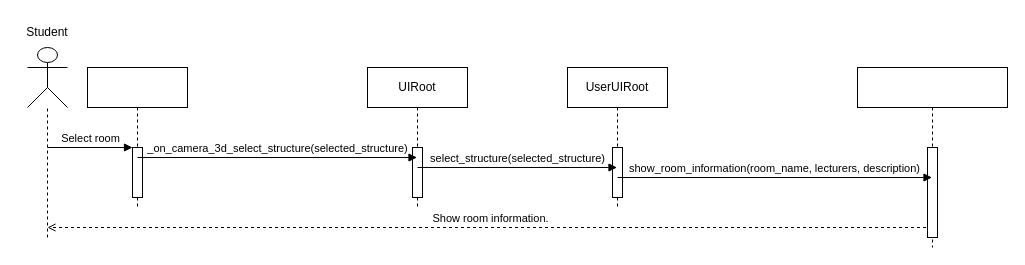
Some shapes in this 1025 by 265 pixel diagram are drawn without their labels. The centre of each missing label's shape, as x and y in pixels:
"Camera3D" goes at (x=137, y=137).
"InformationPopupControl" goes at (x=932, y=157).
